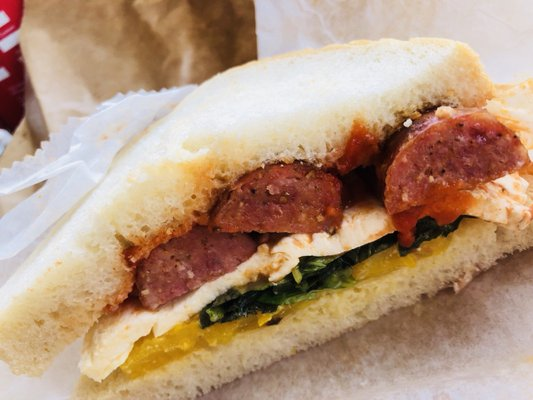soup: (5, 33, 532, 399)
